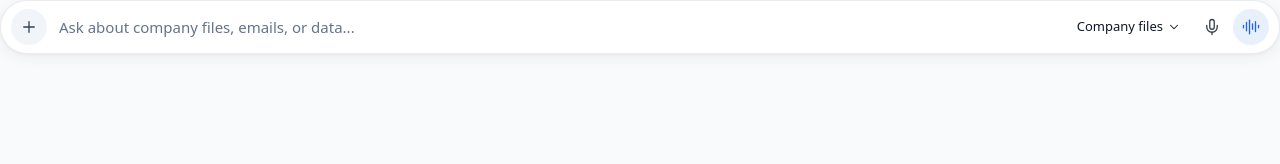
Test case: Composer › prompts user to activate microphone and opens mic settings when OS mic access is denied
Later steps or results of the test are not shown.
Click the button named "Open Voice Assistant Mode": (1212, 27) [1195,10,1229,44]
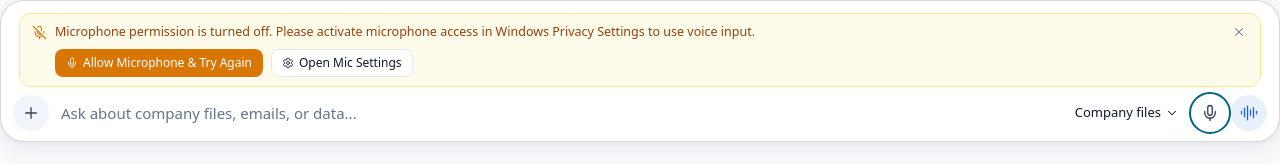
Result: the text "activate microphone access" is shown at [55,23,755,40]
